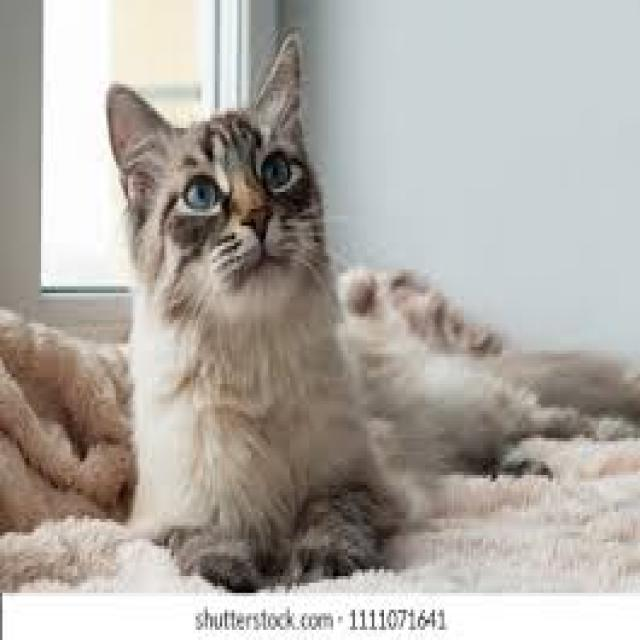Cat: (103, 28, 640, 591)
